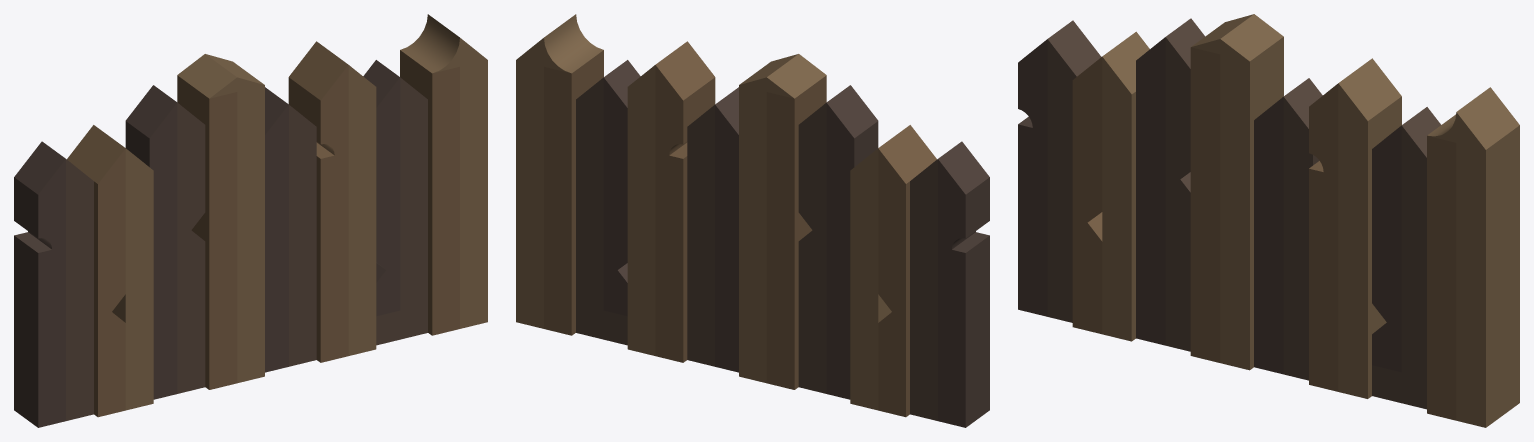
The model's file is fence.glb.
3 renders of one model, left to right at view 1: azimuth 30°, elevation 25°; view 2: azimuth 150°, elevation 25°; view 3: azimuth 330°, elevation 25°, orthographic. The views are drawn at different scales.
Visible parts, largest first — view 1: generated(Clone); view 2: generated(Clone); view 3: generated(Clone).
Part boxes in pixels (x1,y1,x2,y2): generated(Clone): (14, 14, 487, 427); generated(Clone): (516, 14, 989, 427); generated(Clone): (1018, 14, 1519, 427).
Bounding box in the file's own units: 20 × 13.12 × 2.5.
Materials: 1 (1 with a texture image).
